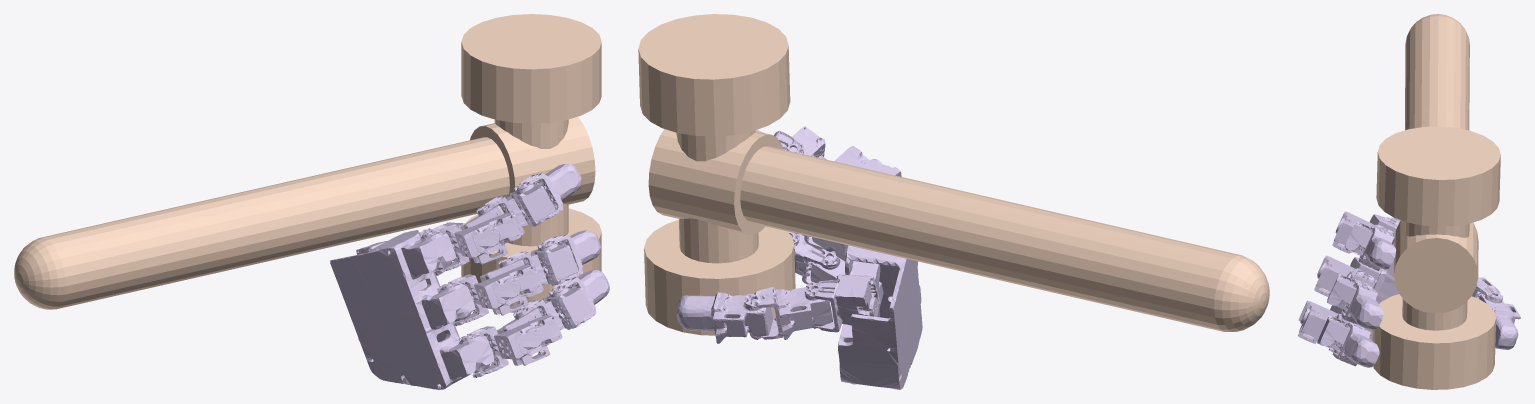
File: 84d6f8dff1544b-closed.glb
3 views of the same model, side by side, from view 1: azimuth 30°, elevation 25°; view 2: azimuth 150°, elevation 25°; view 3: azimuth 270°, elevation 25° (orthographic). The views are drawn at different scales.
Visible parts, largest first — view 1: world, LEAP_hand; view 2: world, LEAP_hand; view 3: world, LEAP_hand.
Part boxes in pixels (box(x1,y1,x2,y2)): world: box(14, 14, 601, 312); LEAP_hand: box(330, 164, 609, 389); world: box(638, 14, 1269, 335); LEAP_hand: box(676, 126, 922, 389); world: box(1372, 14, 1500, 389); LEAP_hand: box(1298, 211, 1520, 367).
Bounding box in the file's own units: 0.5385 × 0.2659 × 0.2063.
